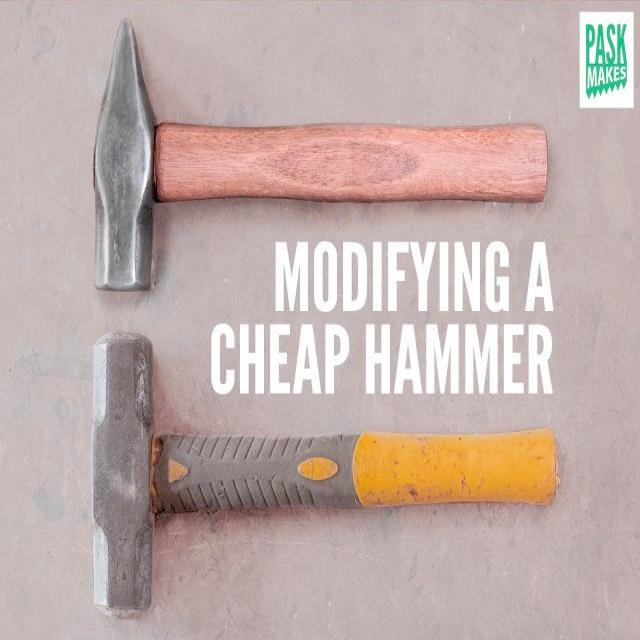hammer: (89, 322, 562, 626), (86, 10, 552, 302)
